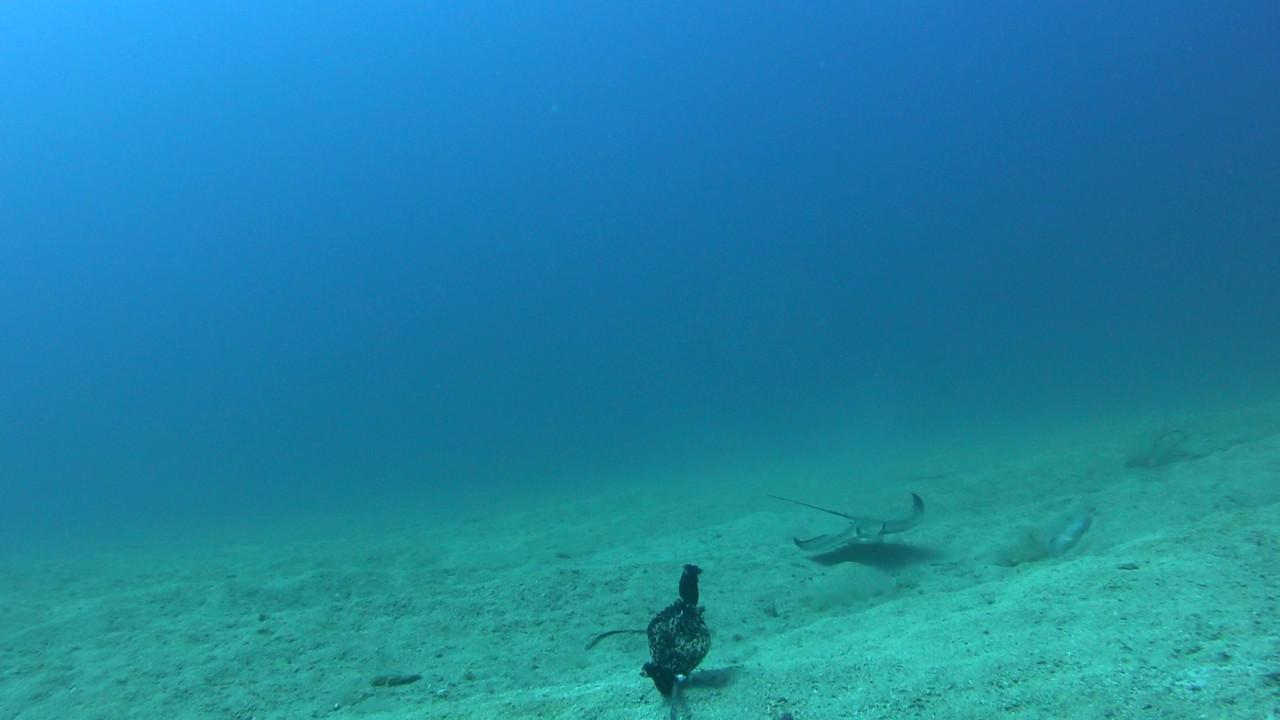myliobatis: (747, 479, 941, 568)
